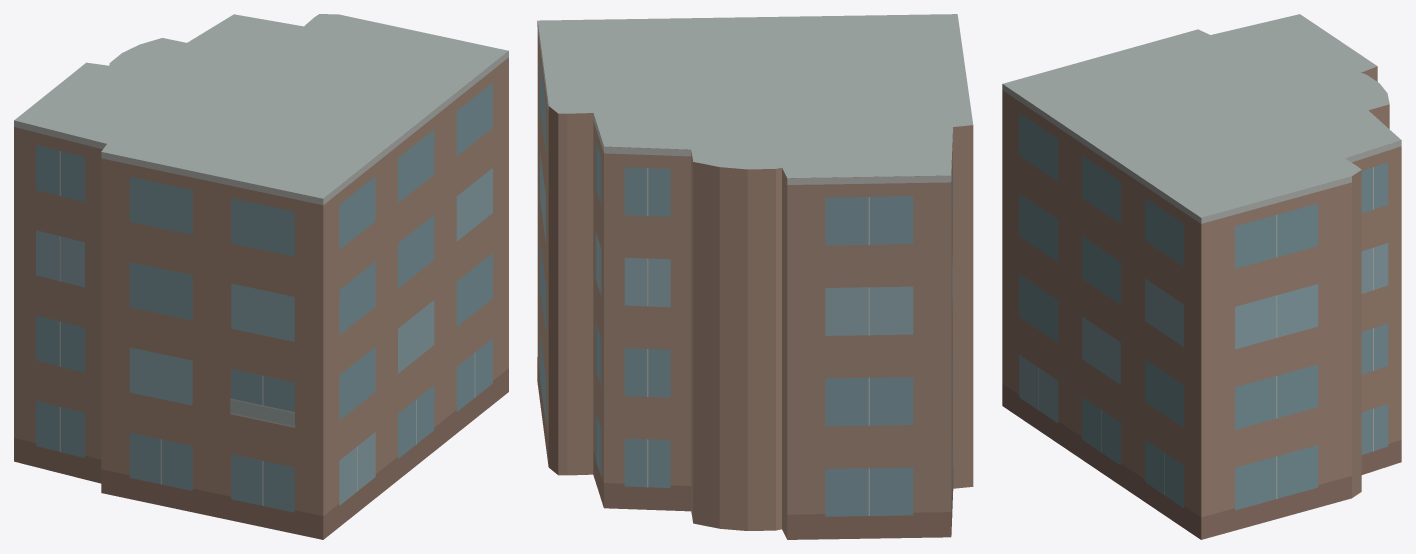
File: survey-upis-32825678.glb
3 renders of one model, left to right at view 1: azimuth 30°, elevation 25°; view 2: azimuth 150°, elevation 25°; view 3: azimuth 270°, elevation 25°, orthographic. The views are drawn at different scales.
Parts seen in each view (by area): view 1: survey-upis-32825678.tmp; view 2: survey-upis-32825678.tmp; view 3: survey-upis-32825678.tmp.
Boxes of the visible parts, <box> form: survey-upis-32825678.tmp: <box>14,14,508,539</box>; survey-upis-32825678.tmp: <box>537,14,973,539</box>; survey-upis-32825678.tmp: <box>1002,14,1401,539</box>.
Size of the model in its own units: 17.38 by 12.8 by 14.39.
